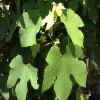grape leaf: (42, 43, 88, 99), (5, 55, 39, 100), (15, 8, 43, 49), (60, 8, 86, 50), (52, 3, 67, 17)
